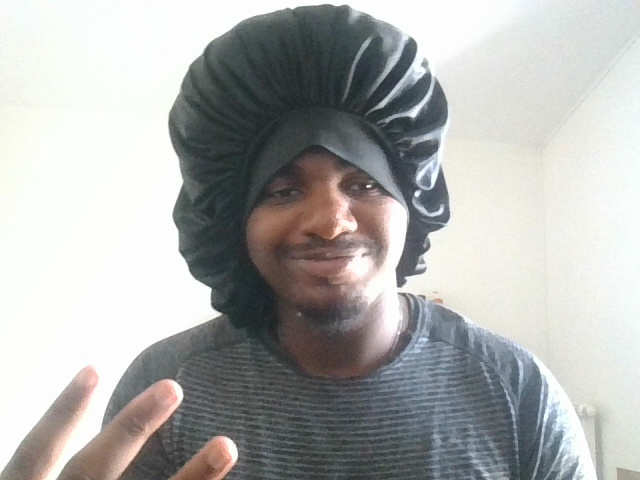I am Better Than Yu: (4, 336, 277, 480)
